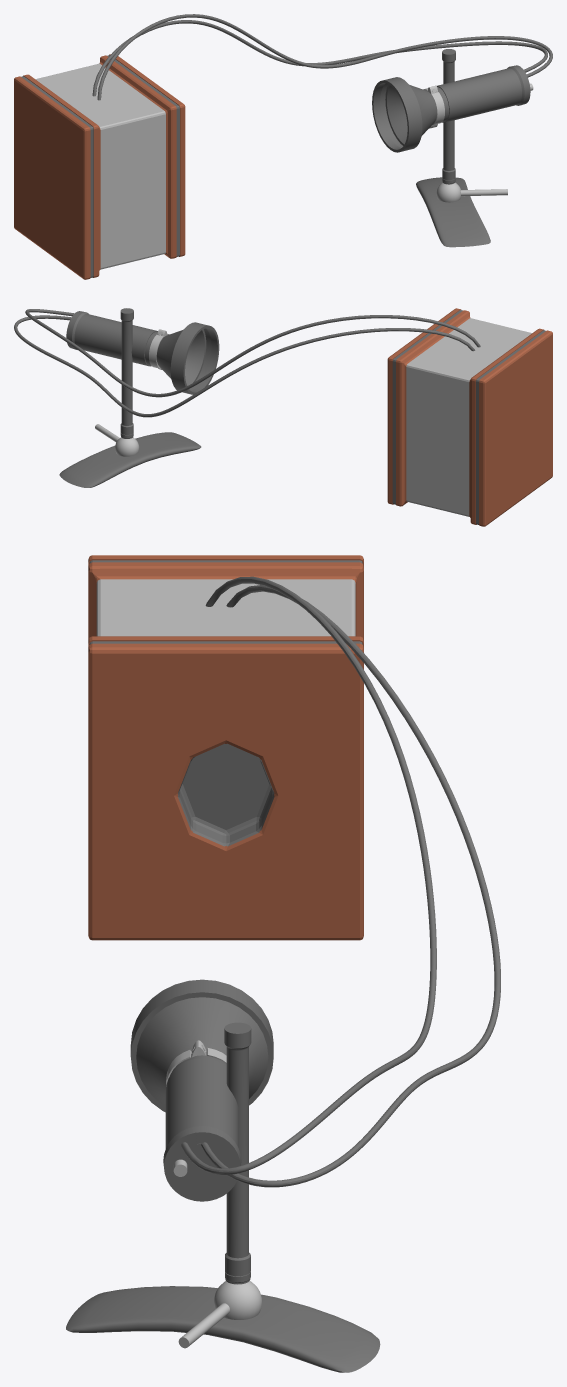
The picture shows the model from 3 angles, top to bottom: view 1: azimuth 30°, elevation 25°; view 2: azimuth 150°, elevation 25°; view 3: azimuth 270°, elevation 25°; orthographic projection. The views are drawn at different scales.
Parts seen in each view (by area): view 1: Cube; view 2: Cube; view 3: Cube.
Boxes of the visible parts, <box> form: Cube: <box>14,14,552,279</box>; Cube: <box>14,308,552,526</box>; Cube: <box>66,555,500,1372</box>.
Bounding box in the file's own units: 301 × 135 × 115.
